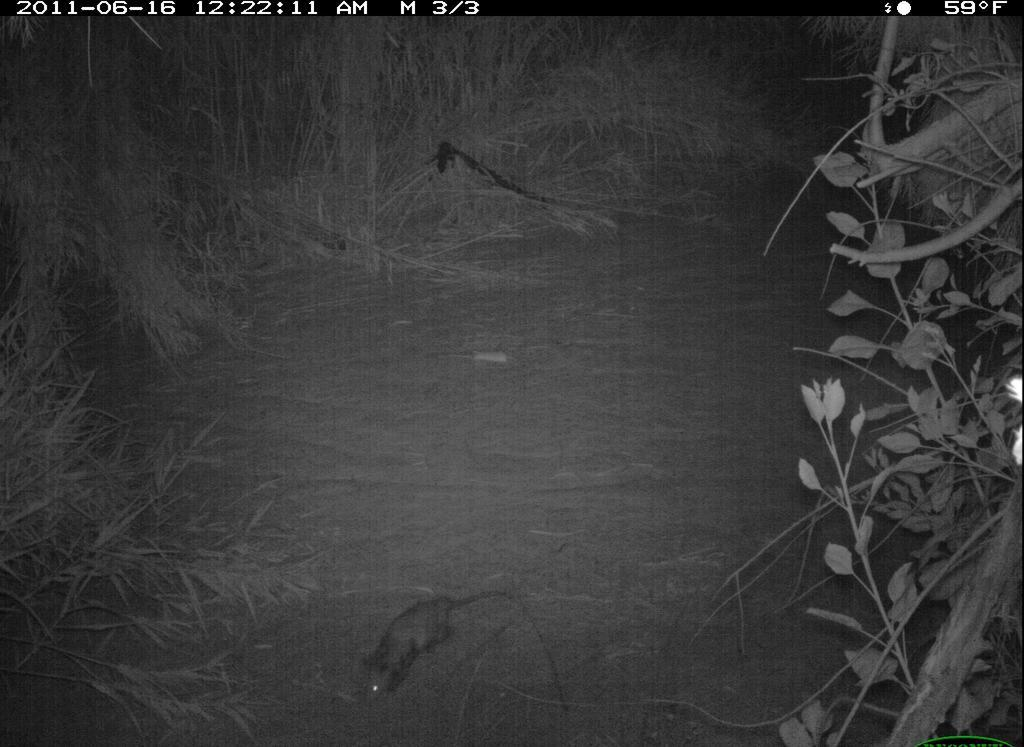opossum: (360, 583, 520, 702)
